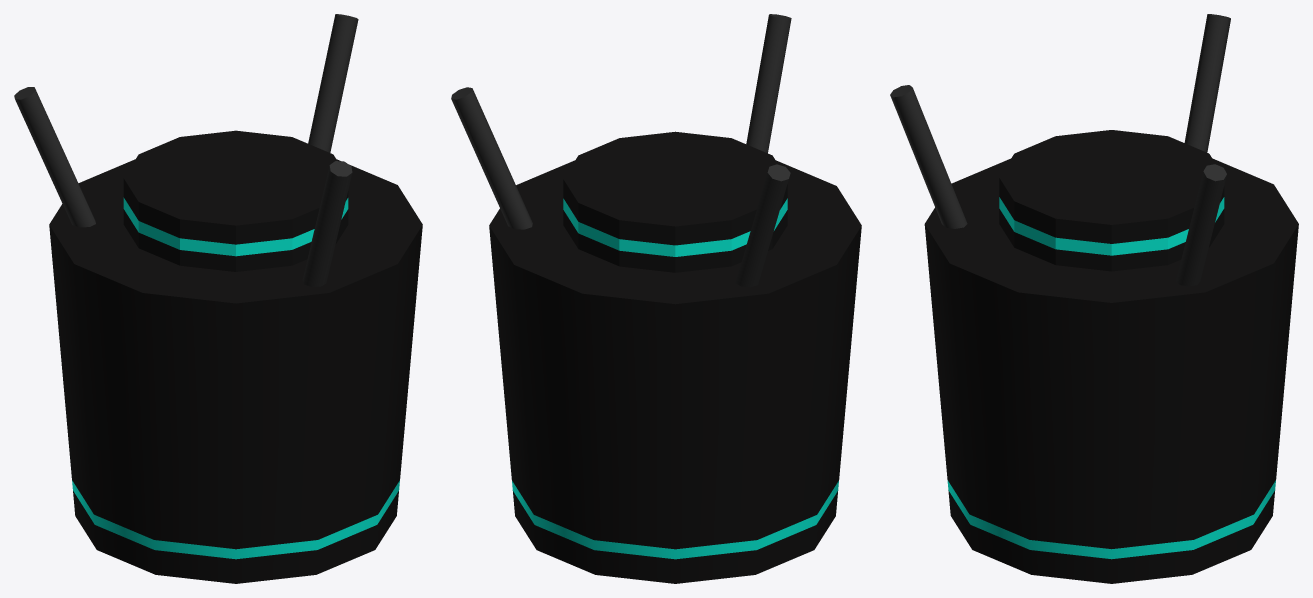
File: detector.fbx
3 renders of one model, left to right at view 1: azimuth 30°, elevation 25°; view 2: azimuth 150°, elevation 25°; view 3: azimuth 270°, elevation 25°, orthographic.
Visible parts, largest first — view 1: Cylinder002, Cylinder004, Cylinder005, Cylinder003; view 2: Cylinder002, Cylinder005, Cylinder003, Cylinder004; view 3: Cylinder002, Cylinder003, Cylinder004, Cylinder005.
Boxes of the visible parts, box(x1,y1,x2,y2) form: Cylinder002: box(49, 130, 422, 583); Cylinder004: box(14, 87, 95, 227); Cylinder005: box(308, 14, 358, 152); Cylinder003: box(302, 161, 352, 286); Cylinder002: box(489, 131, 861, 583); Cylinder005: box(451, 87, 532, 229); Cylinder003: box(746, 14, 791, 153); Cylinder004: box(735, 164, 790, 287); Cylinder002: box(924, 130, 1298, 583); Cylinder003: box(890, 85, 967, 228); Cylinder004: box(1184, 14, 1230, 152); Cylinder005: box(1176, 164, 1226, 286).
Size of the model in its own units: 3.84 by 4.62 by 4.
